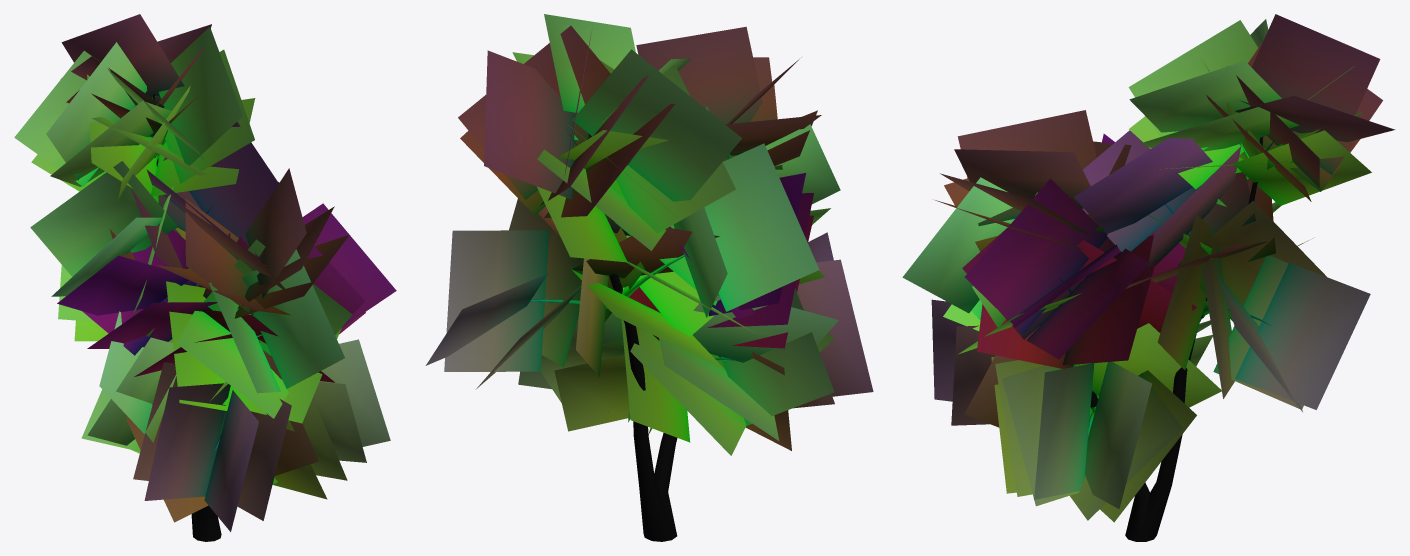
File: URP_P15_Tree_5_LOD_2.fbx
The picture shows the model from 3 angles, left to right: view 1: azimuth 30°, elevation 25°; view 2: azimuth 150°, elevation 25°; view 3: azimuth 270°, elevation 25°; orthographic projection. The views are drawn at different scales.
Visible parts, largest first — view 1: Tree_5_LOD_2; view 2: Tree_5_LOD_2; view 3: Tree_5_LOD_2.
Boxes of the visible parts, x1=… form: Tree_5_LOD_2: x1=14, y1=14, x2=396, y2=541; Tree_5_LOD_2: x1=425, y1=14, x2=873, y2=541; Tree_5_LOD_2: x1=902, y1=14, x2=1395, y2=541.
Size of the model in its own units: 504 by 823 by 709.
